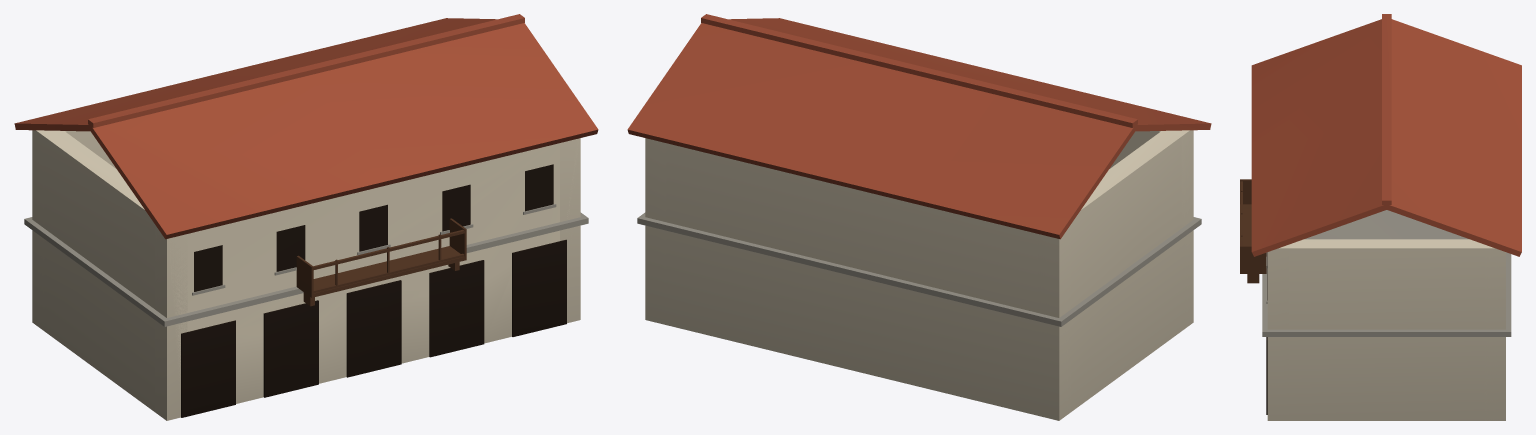
Rendered from colonial_cabildo_lod1.glb.
3 renders of one model, left to right at view 1: azimuth 30°, elevation 25°; view 2: azimuth 150°, elevation 25°; view 3: azimuth 270°, elevation 25°, orthographic. The views are drawn at different scales.
Parts seen in each view (by area): view 1: GEO-Arch_colonial_cabildo_LOD1; view 2: GEO-Arch_colonial_cabildo_LOD1; view 3: GEO-Arch_colonial_cabildo_LOD1.
Part boxes in pixels (box(x1,y1,x2,y2)): GEO-Arch_colonial_cabildo_LOD1: box(14, 14, 598, 420); GEO-Arch_colonial_cabildo_LOD1: box(627, 14, 1211, 420); GEO-Arch_colonial_cabildo_LOD1: box(1240, 14, 1521, 420).
Bounding box in the file's own units: 16.7 × 9.34 × 10.64.
